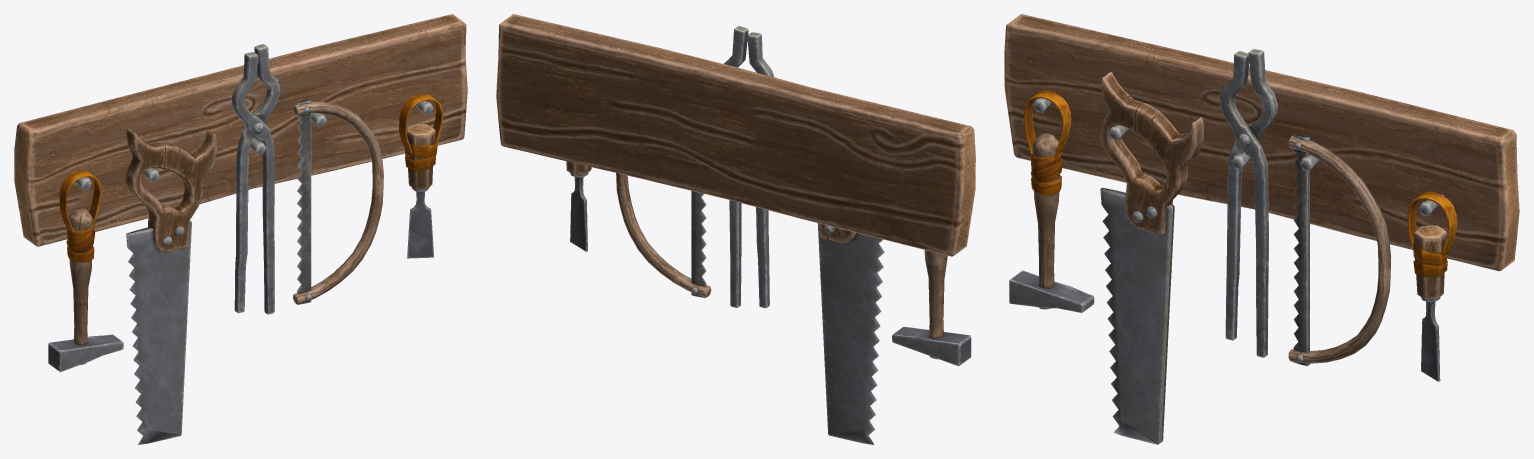
3 views of the same model, side by side, from view 1: azimuth 30°, elevation 25°; view 2: azimuth 150°, elevation 25°; view 3: azimuth 330°, elevation 25° (orthographic). The views are drawn at different scales.
Visible parts, largest first — view 1: SM_Dec_Workshop_Hanging_Tools_LOD0; view 2: SM_Dec_Workshop_Hanging_Tools_LOD0; view 3: SM_Dec_Workshop_Hanging_Tools_LOD0.
Part boxes in pixels (x1=…): SM_Dec_Workshop_Hanging_Tools_LOD0: x1=14, y1=14, x2=467, y2=444; SM_Dec_Workshop_Hanging_Tools_LOD0: x1=496, y1=14, x2=975, y2=444; SM_Dec_Workshop_Hanging_Tools_LOD0: x1=1004, y1=14, x2=1519, y2=444.
Bounding box in the file's own units: 1.2 × 0.9457 × 0.1441.
Materials: 2 (2 with a texture image).
